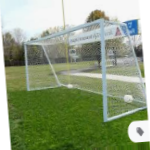goals: (23, 17, 147, 121)
